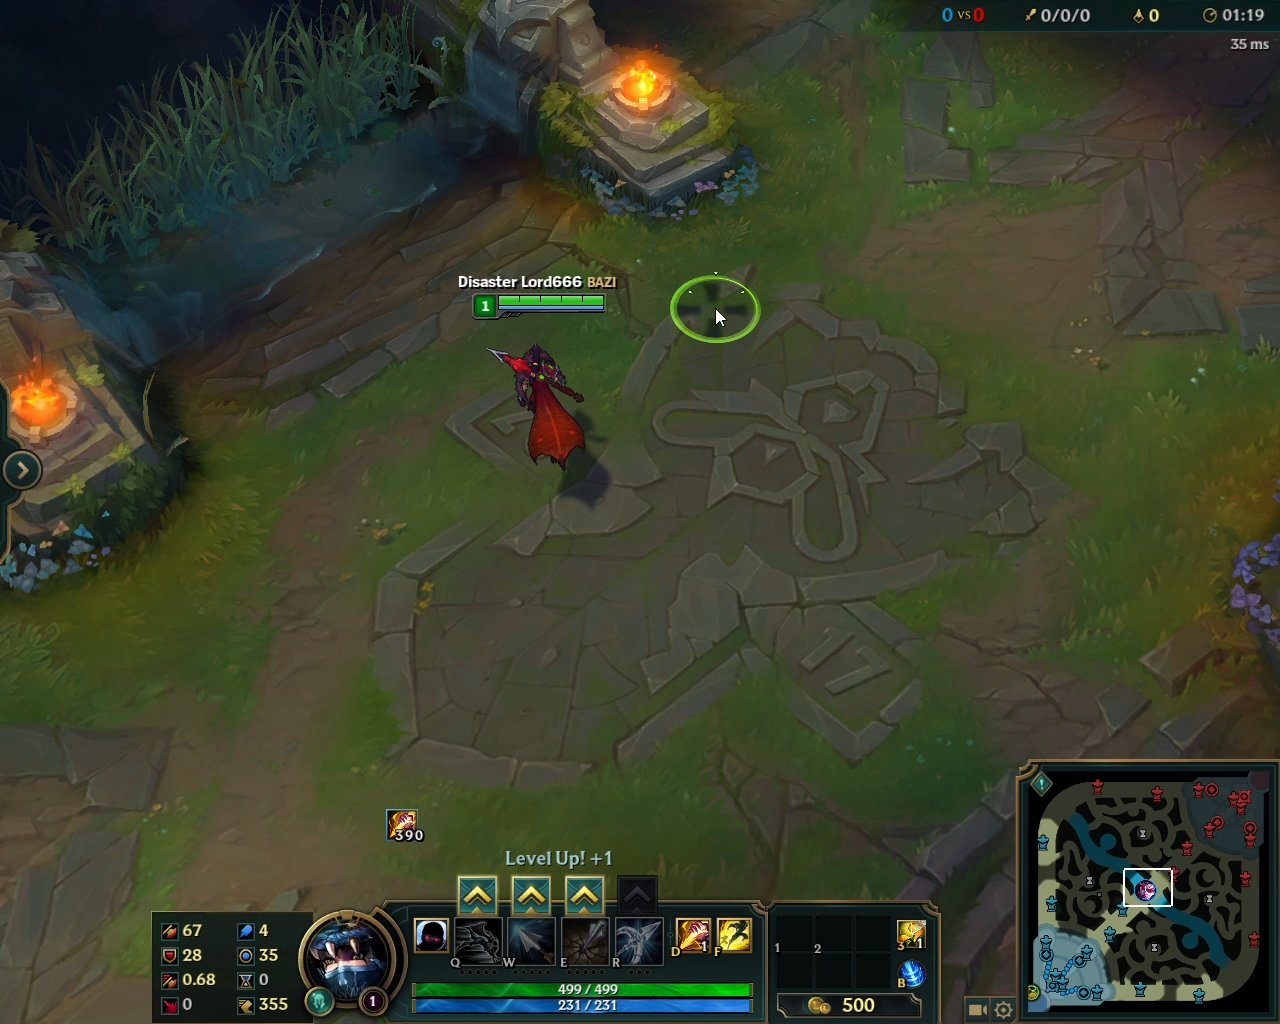Vayne: (484, 335, 587, 478)
